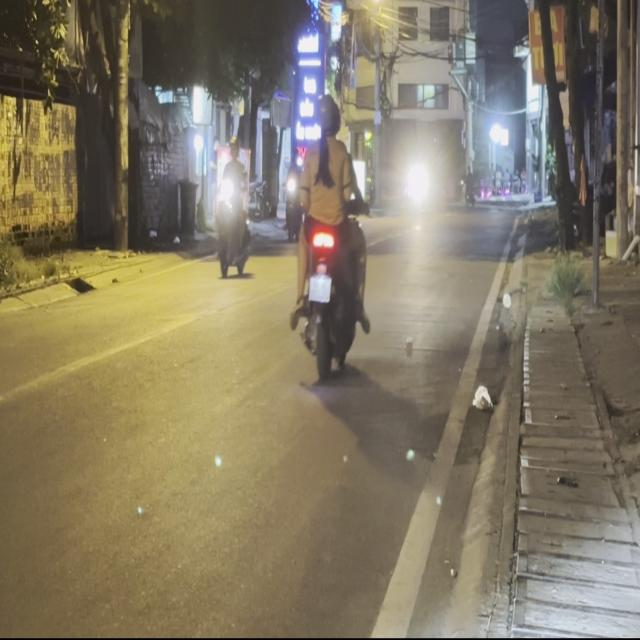helmet: (314, 91, 341, 138)
licenseplate: (288, 89, 370, 379)
nohelmet: (308, 274, 331, 301)
